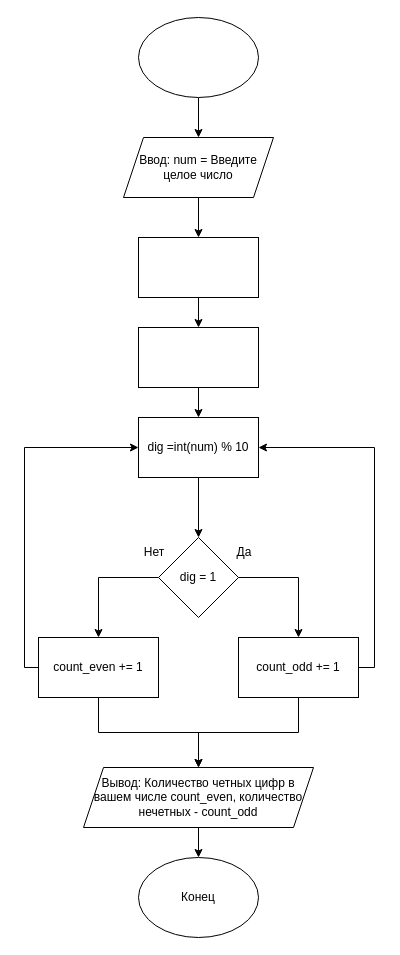
This 400x955 diagram has some shape labels left out. The shapes that lost their labels are listed below. From the top down, each one's box as (x1, y1, x2, y2) in pixels, then its label:
(138, 16, 258, 98): Начало
(138, 236, 258, 298): count_even = 0
(138, 326, 258, 388): count_odd = 0
